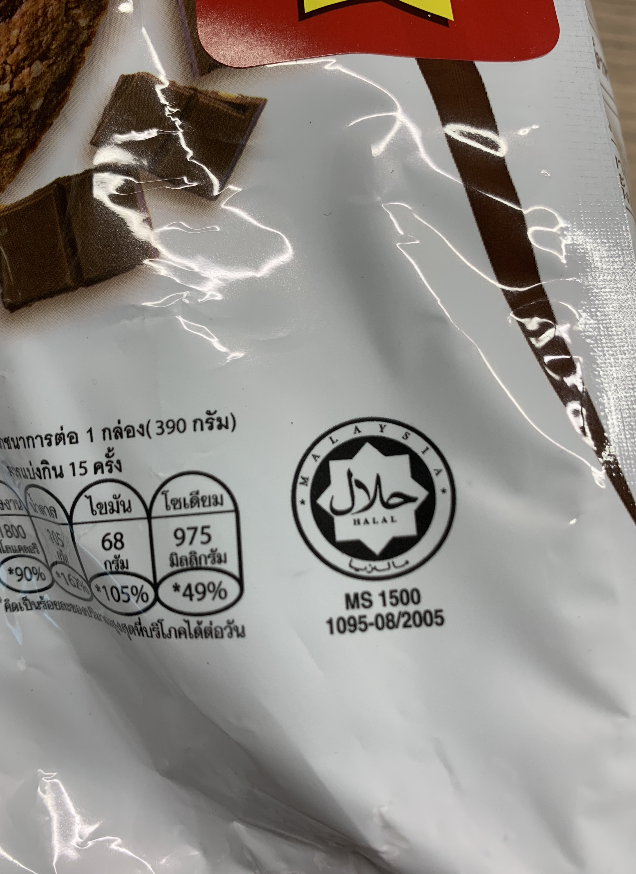halal: (315, 444, 434, 546)
